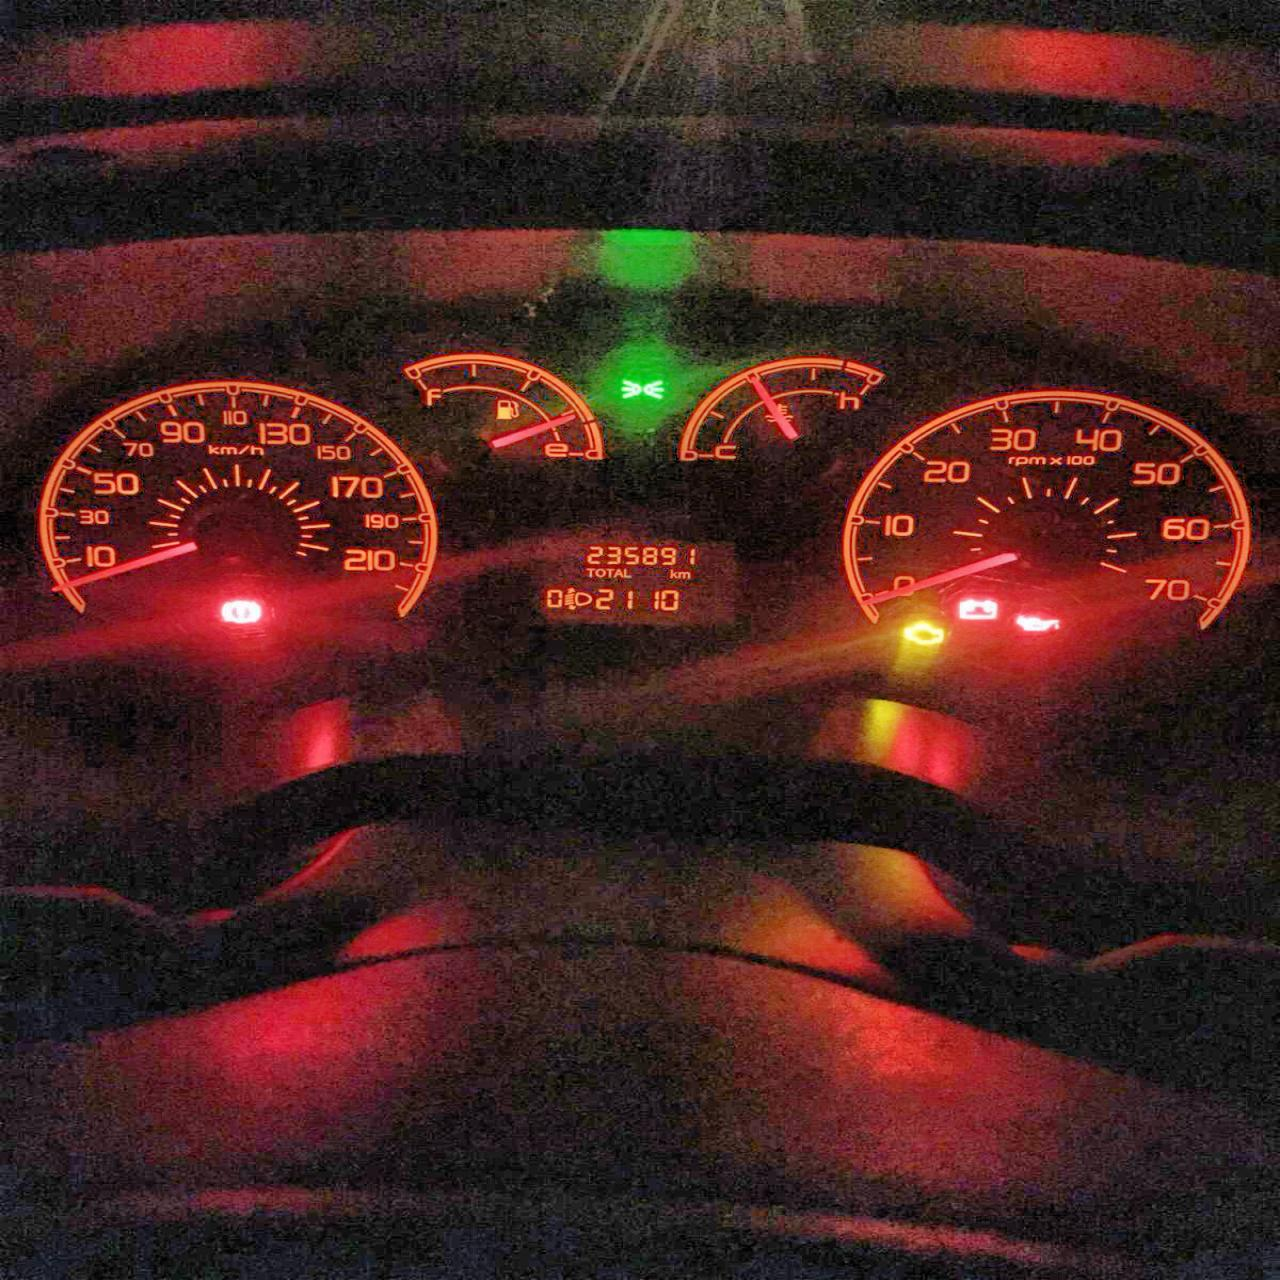0: (659, 588, 681, 611), (543, 587, 561, 608)
1: (625, 587, 635, 611), (685, 547, 699, 565), (648, 588, 659, 610)
2: (592, 587, 615, 610), (584, 544, 602, 565)
3: (602, 545, 620, 565)
5: (622, 545, 640, 565)
8: (641, 546, 658, 564)
9: (660, 545, 678, 565)
X: (678, 571, 692, 579), (585, 566, 594, 577), (594, 567, 605, 577), (622, 567, 632, 578), (668, 568, 678, 578), (605, 567, 613, 576), (613, 568, 621, 577)
odometer: (520, 529, 714, 621)
